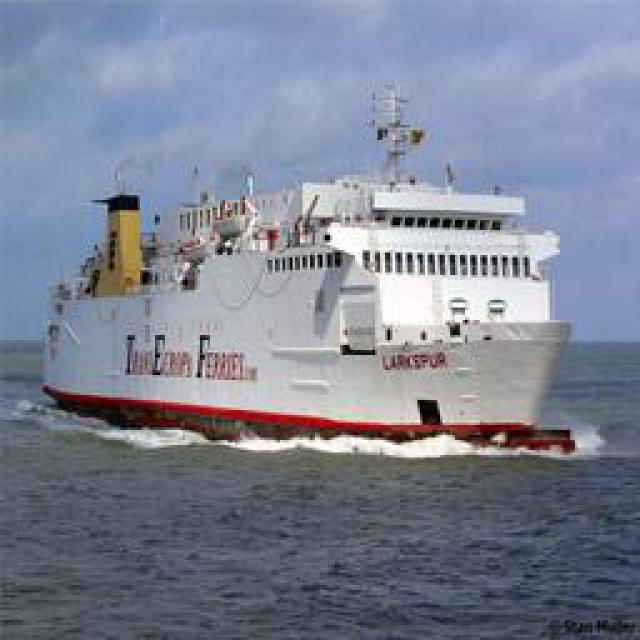Ship: (43, 134, 581, 444)
